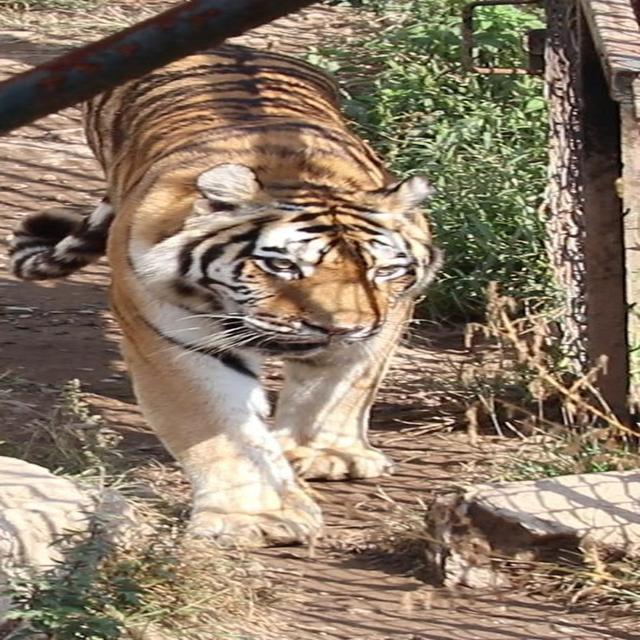tiger: (0, 33, 505, 562)
